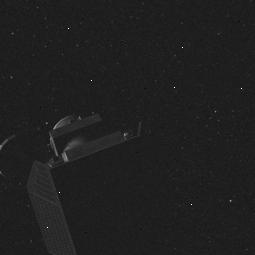cheops: (8, 99, 166, 255)
